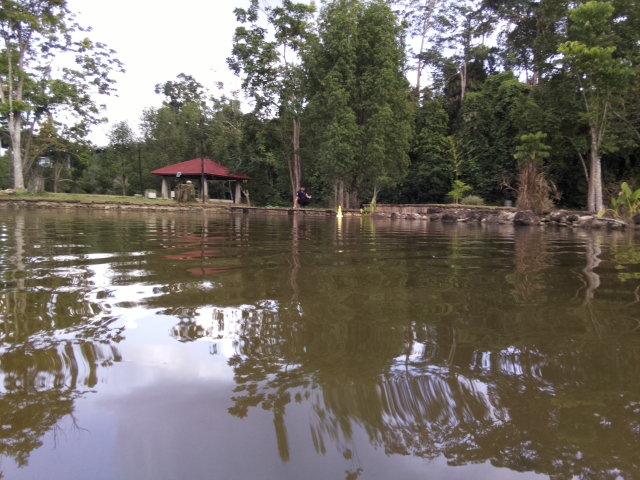checkpoint: (334, 204, 344, 219)
